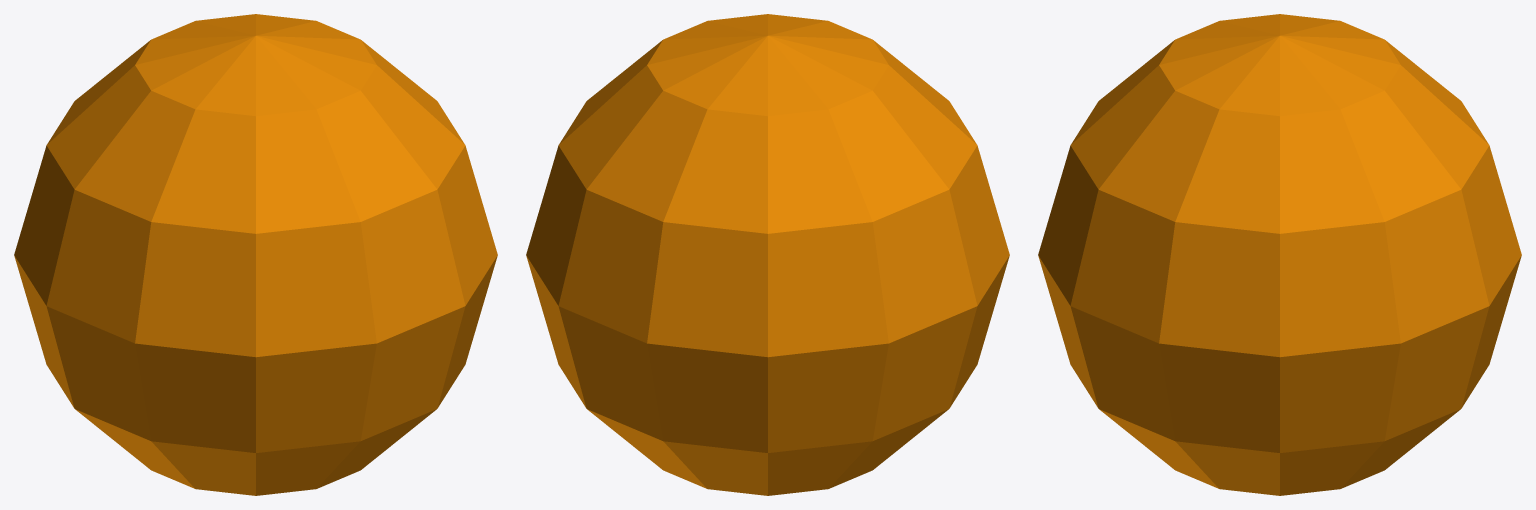
Rendered from bigball.glb.
3 views of the same model, side by side, from view 1: azimuth 30°, elevation 25°; view 2: azimuth 150°, elevation 25°; view 3: azimuth 270°, elevation 25° (orthographic).
Visible parts, largest first — view 1: bigBall; view 2: bigBall; view 3: bigBall.
Boxes of the visible parts, x1=… form: bigBall: x1=14, y1=14, x2=497, y2=495; bigBall: x1=526, y1=14, x2=1009, y2=495; bigBall: x1=1038, y1=14, x2=1521, y2=495.
Size of the model in its own units: 0.9764 by 0.9764 by 0.9764.
